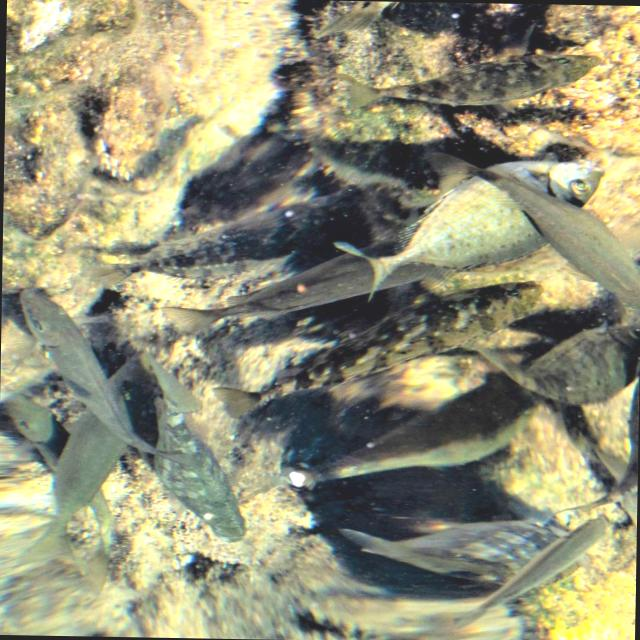Sokar Baligi: (330, 143, 620, 311), (134, 338, 264, 558)
